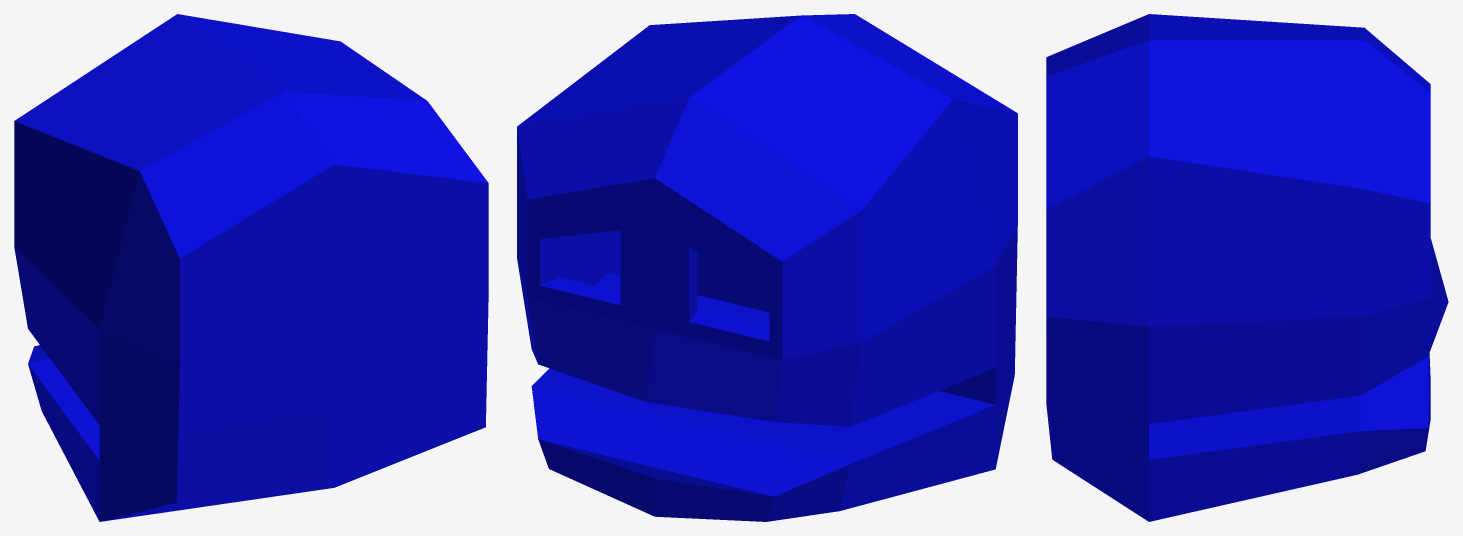
Rendered from skull.glb.
3 renders of one model, left to right at view 1: azimuth 30°, elevation 25°; view 2: azimuth 150°, elevation 25°; view 3: azimuth 270°, elevation 25°, orthographic. The views are drawn at different scales.
Parts seen in each view (by area): view 1: Cube.001; view 2: Cube.001; view 3: Cube.001.
Part boxes in pixels (x1=…): Cube.001: x1=14, y1=14, x2=488, y2=521; Cube.001: x1=517, y1=14, x2=1017, y2=521; Cube.001: x1=1046, y1=14, x2=1448, y2=521.
Bounding box in the file's own units: 1 × 1 × 0.9332.
